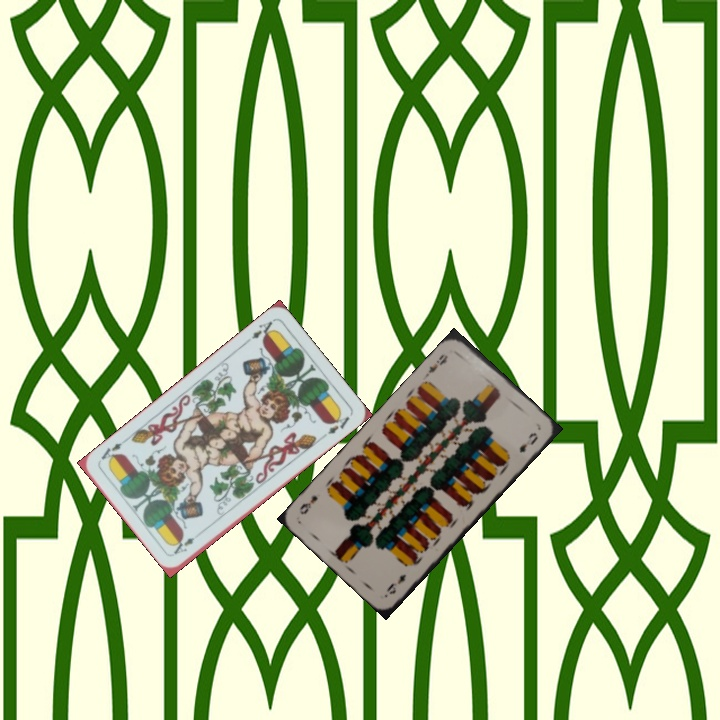E9: (422, 350, 451, 379), (382, 570, 409, 597)
EA: (241, 317, 277, 346), (169, 533, 197, 557)
